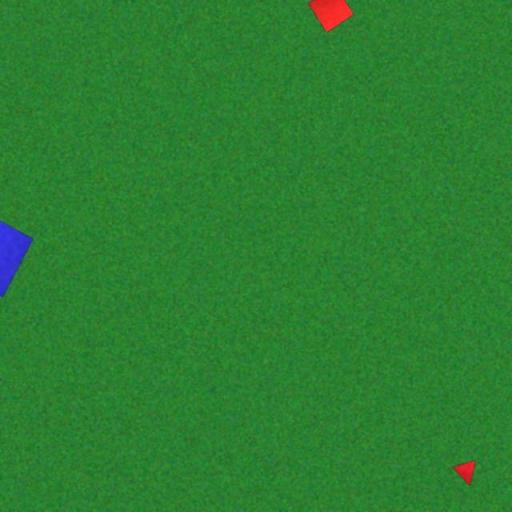BLUE_SQUARE: (0, 202, 34, 298)
RED_SQUARE: (308, 0, 354, 33)
